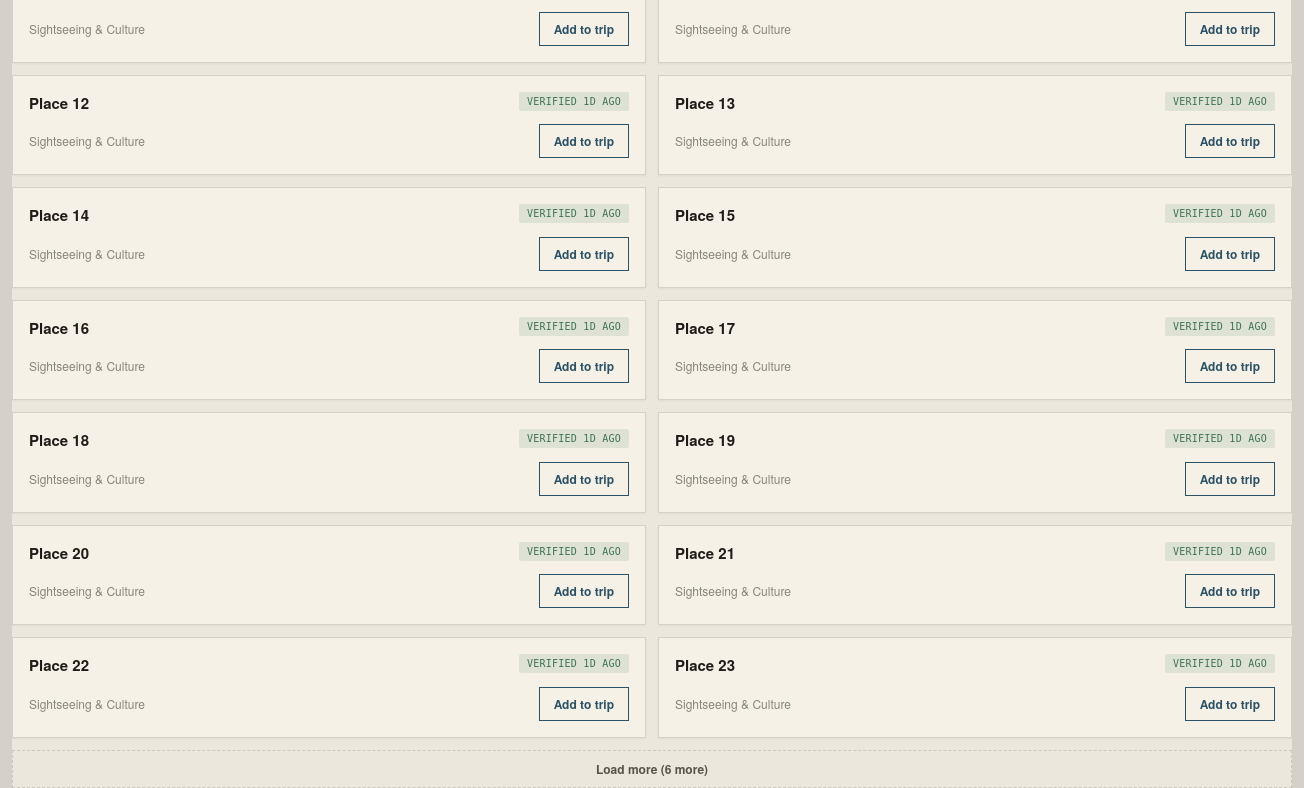
Test: DiscoverScreen › resets back to the first page when the search query changes
(page scrolled)
Click the button "Load more (6 more)" at (652, 768), box [12, 750, 1292, 787]
(page scrolled)
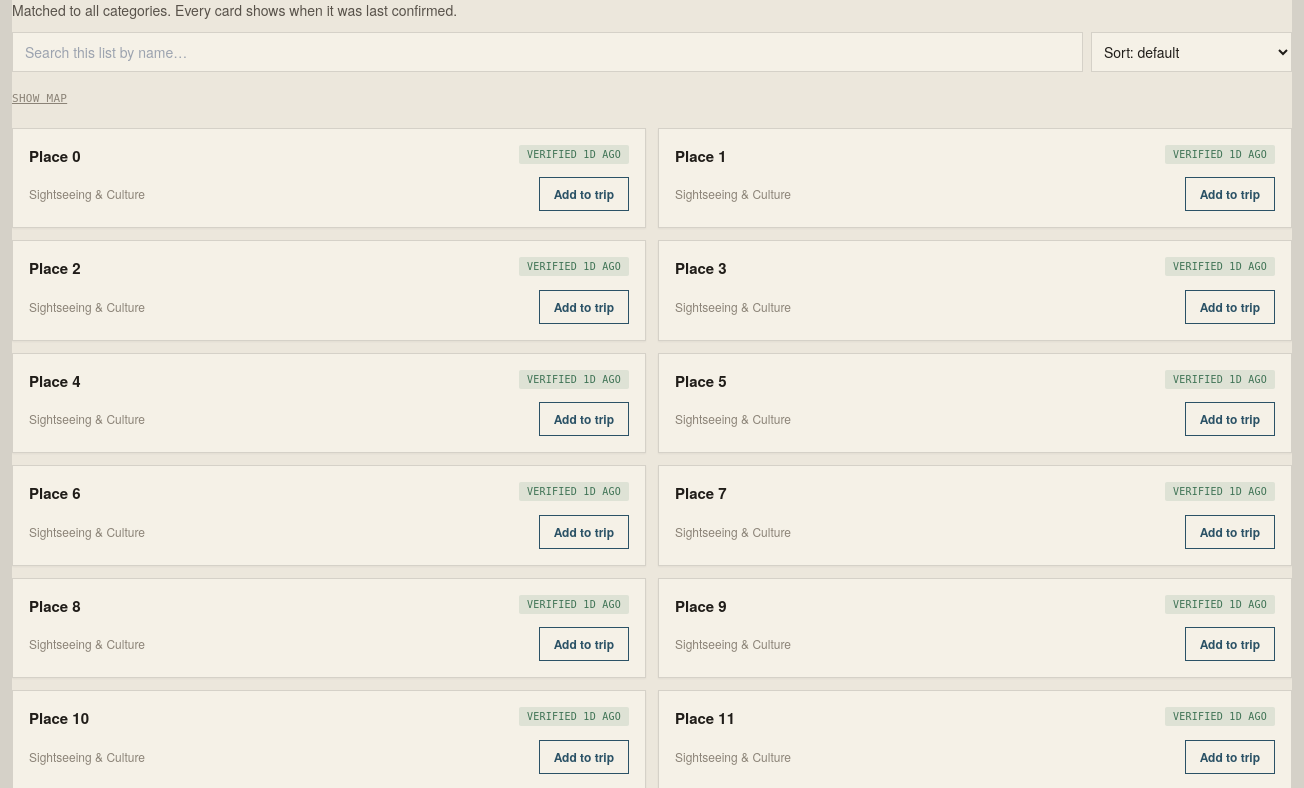
Expected: the number of headings "Place 0" is 30
Type "Place 1" into the search field at (548, 52), box [12, 32, 1083, 72]
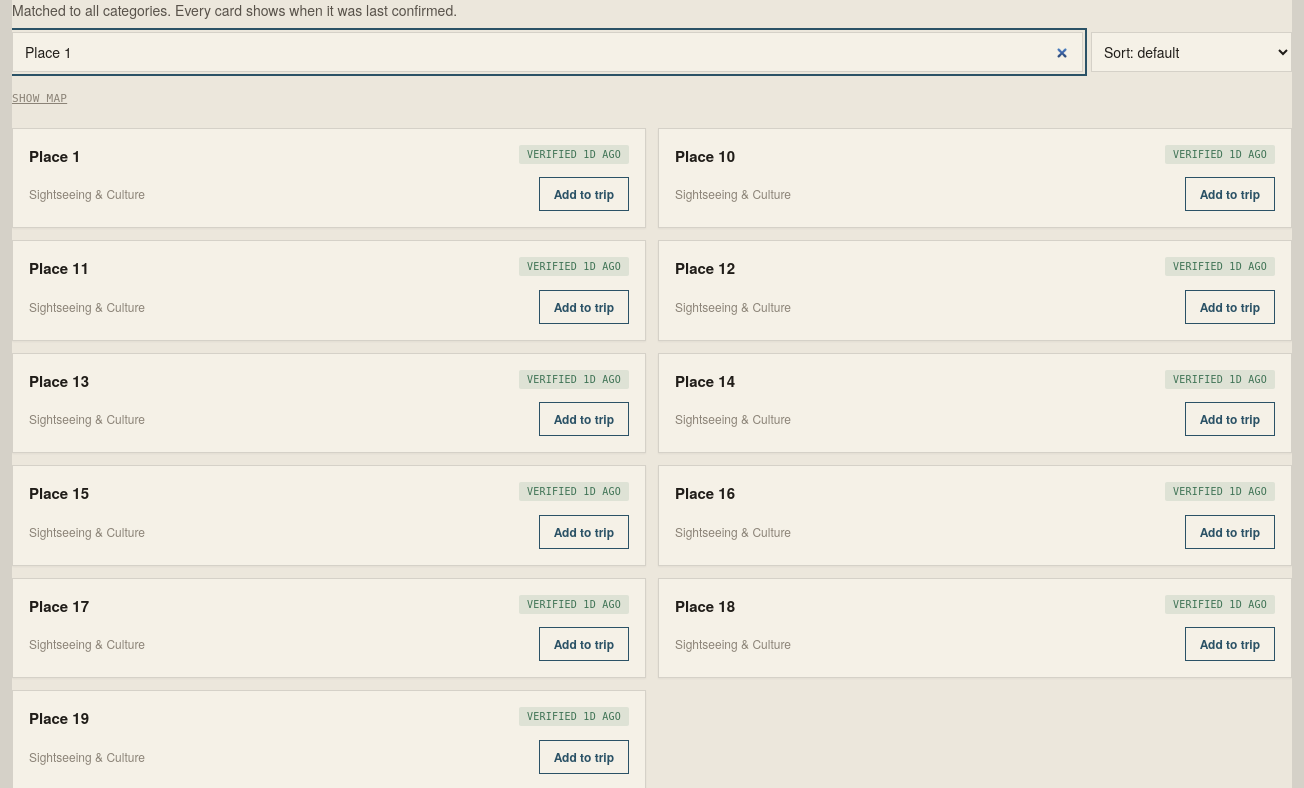
Expected: the button "Load more" is not shown
Expected: the heading "Place 0" is gone
